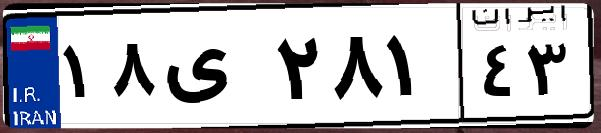1: (385, 28, 445, 110), (57, 26, 110, 100)
2: (270, 28, 330, 110)
3: (525, 38, 570, 115)
4: (475, 38, 525, 113)
8: (330, 28, 385, 110), (110, 28, 158, 98)
ی: (158, 20, 270, 120)
